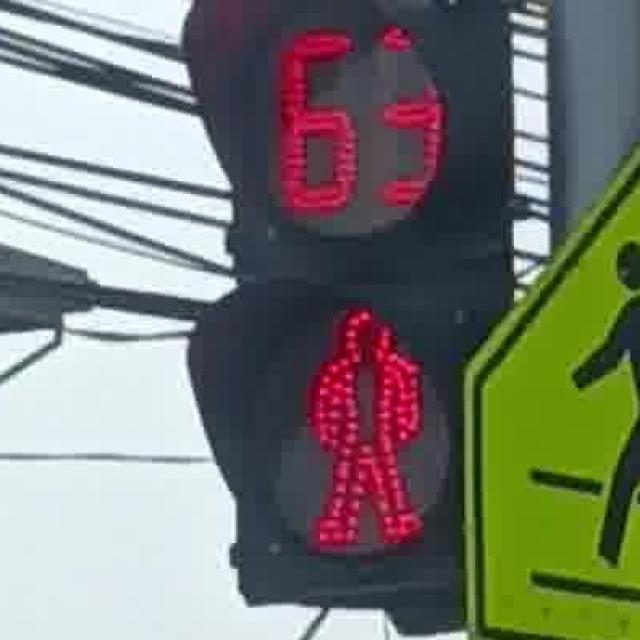red-crossing: (296, 297, 434, 561)
